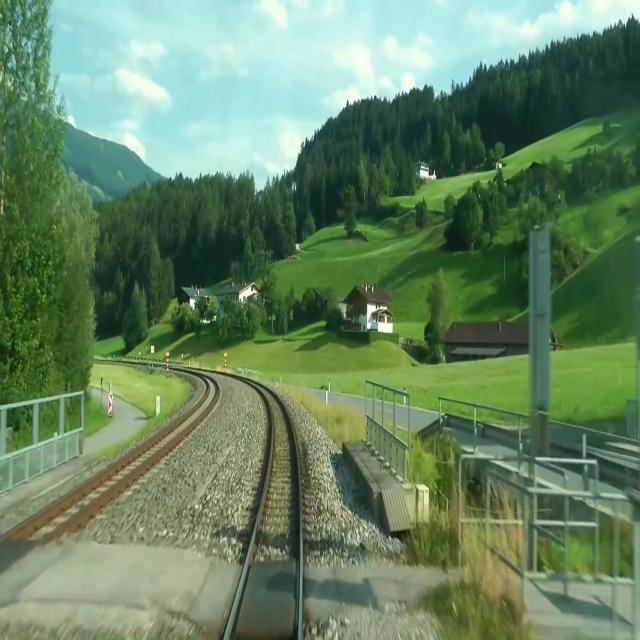rail-track: (0, 381, 216, 565), (229, 393, 298, 639)
